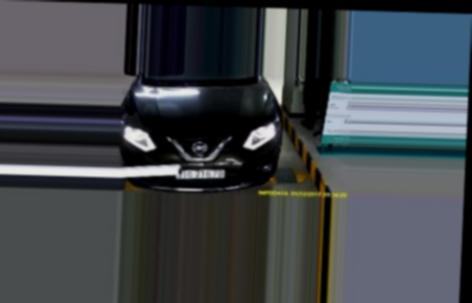License_Plate: (175, 166, 227, 181)
